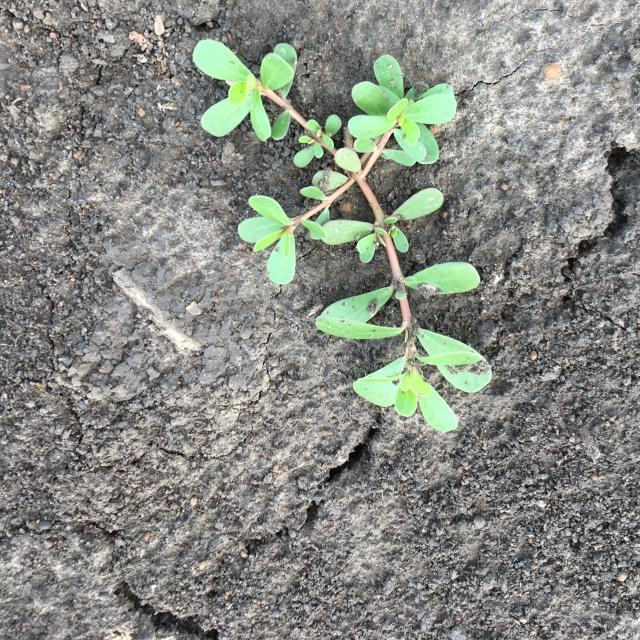Purslane: (193, 39, 492, 433)
